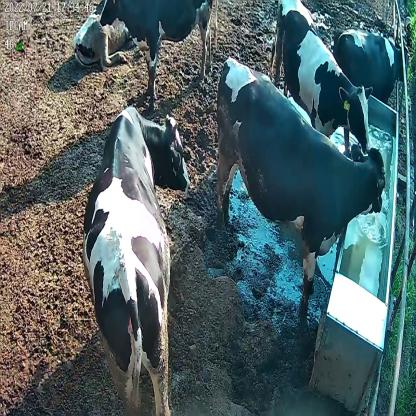cow: (212, 57, 387, 296), (80, 104, 190, 413), (272, 0, 375, 155), (100, 0, 220, 97), (334, 28, 410, 101)
